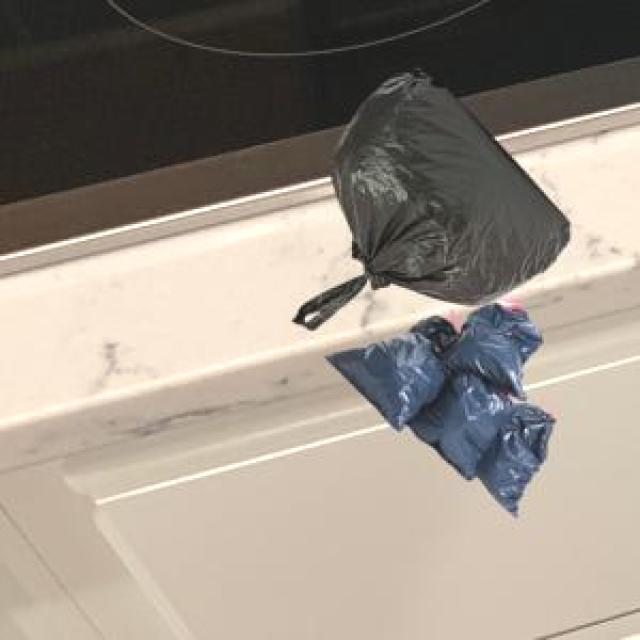Trashbag: (334, 77, 563, 296), (328, 331, 436, 416), (487, 404, 563, 519), (444, 303, 543, 387), (420, 382, 502, 466)
